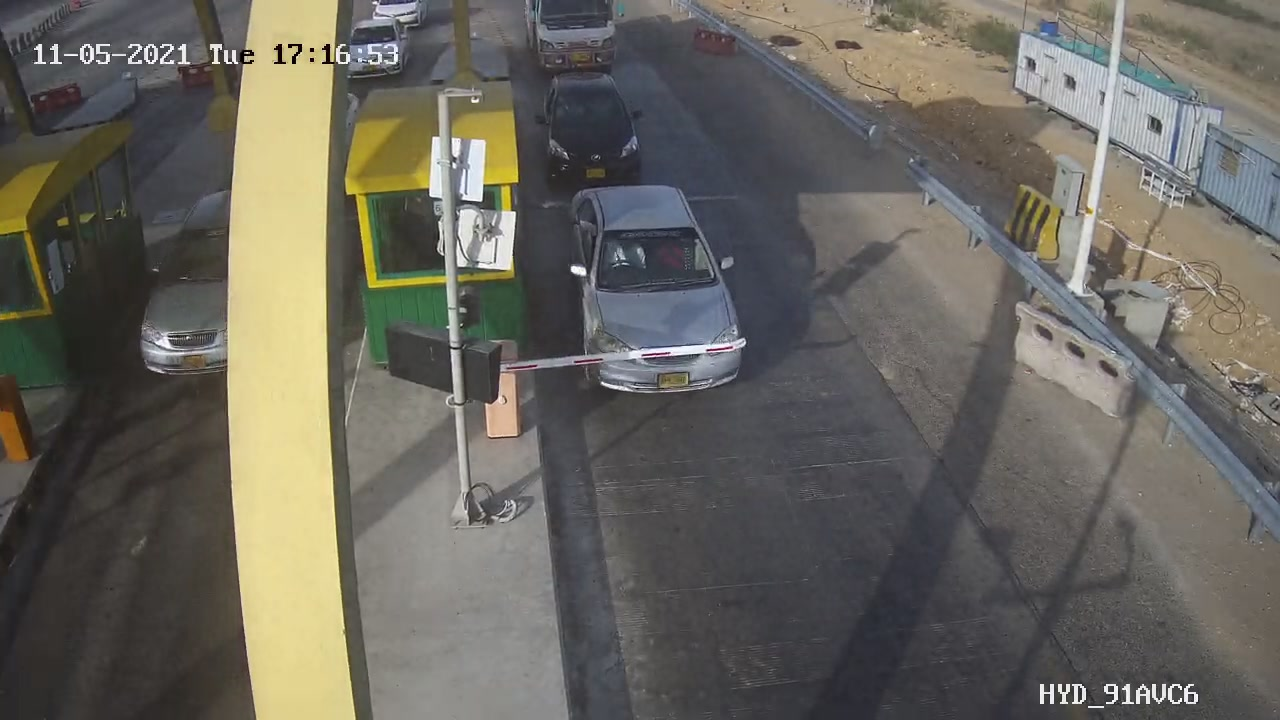F1: (550, 173, 772, 417), (518, 57, 660, 209)
